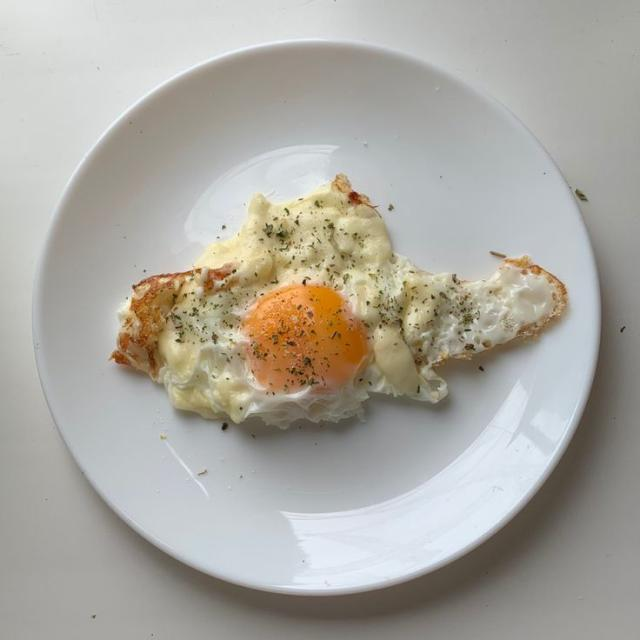fryed egg: (114, 176, 566, 426)
